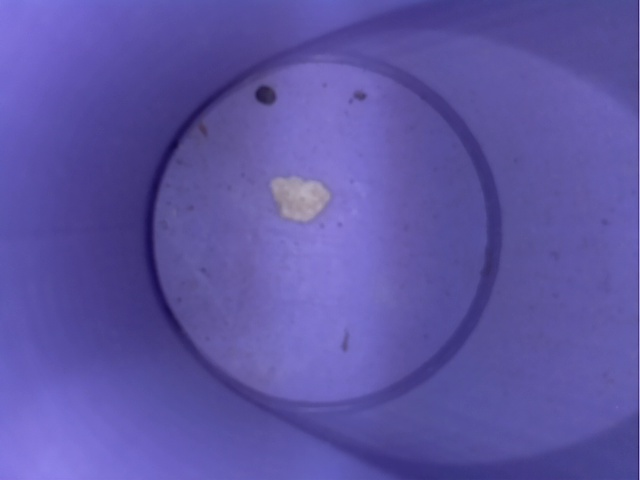caillou: (263, 162, 343, 230)
